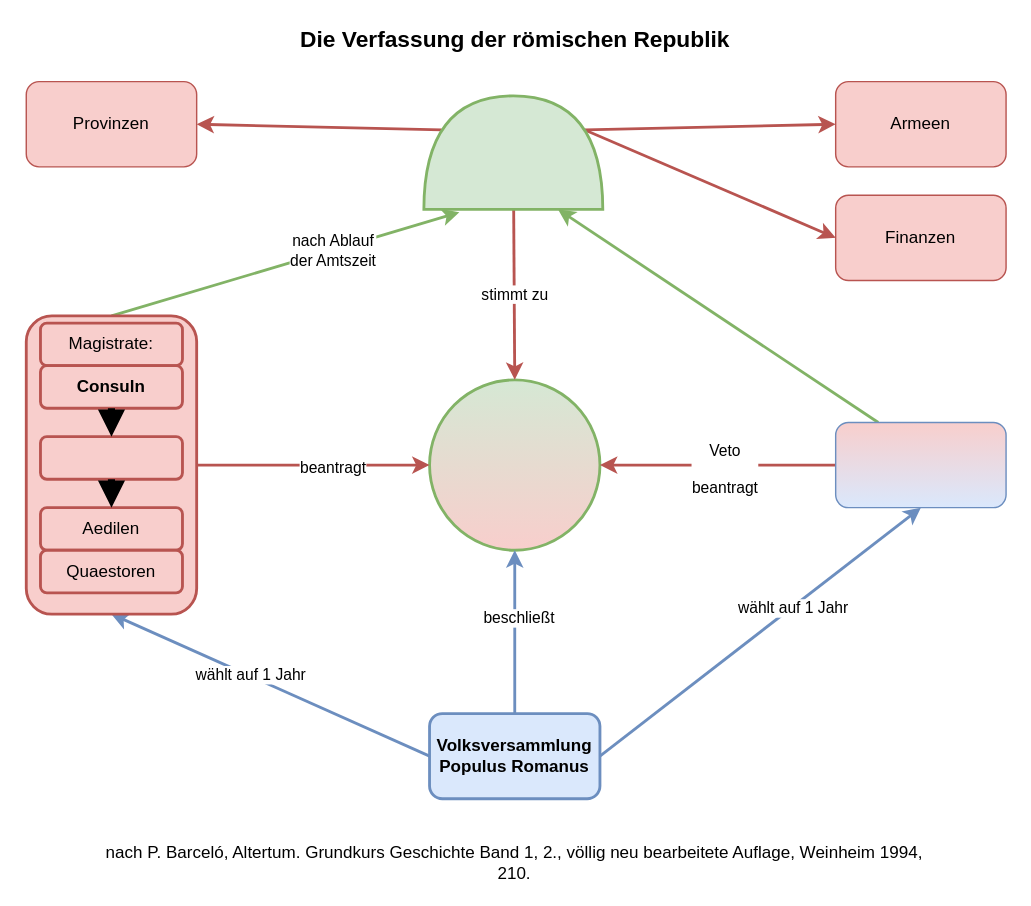
Some shapes in this 1031 by 906 pixel diagram are drawn without their labels. Each missing label, with the centre of its shape:
Gesetze: the point at 514,464
Praetoren: the point at 110,457
Senat Consulare: the point at 513,152
Volkstribunen: the point at 920,464
